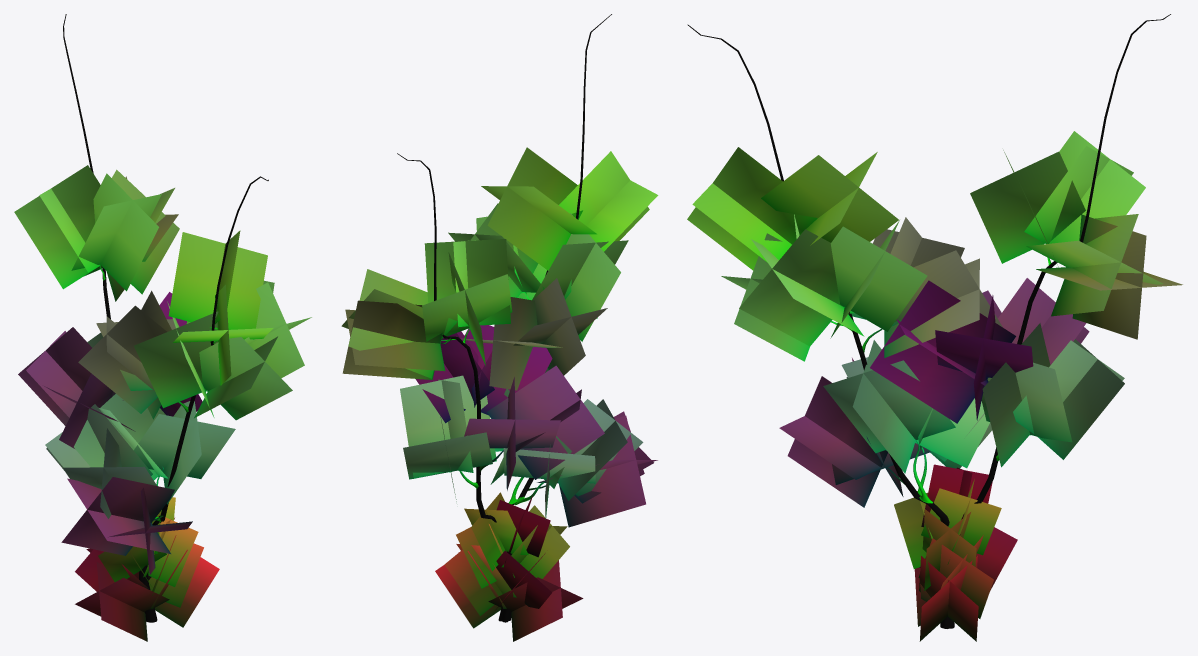
Rendered from URP_P12_Tree_6_LOD_1.fbx.
3 renders of one model, left to right at view 1: azimuth 30°, elevation 25°; view 2: azimuth 150°, elevation 25°; view 3: azimuth 270°, elevation 25°, orthographic. The views are drawn at different scales.
Visible parts, largest first — view 1: Tree_6_LOD_1; view 2: Tree_6_LOD_1; view 3: Tree_6_LOD_1.
Boxes of the visible parts, <box> form: Tree_6_LOD_1: <box>14,14,311,641</box>; Tree_6_LOD_1: <box>341,14,658,641</box>; Tree_6_LOD_1: <box>687,14,1182,641</box>.
Bounding box in the file's own units: 180 × 441 × 315.
